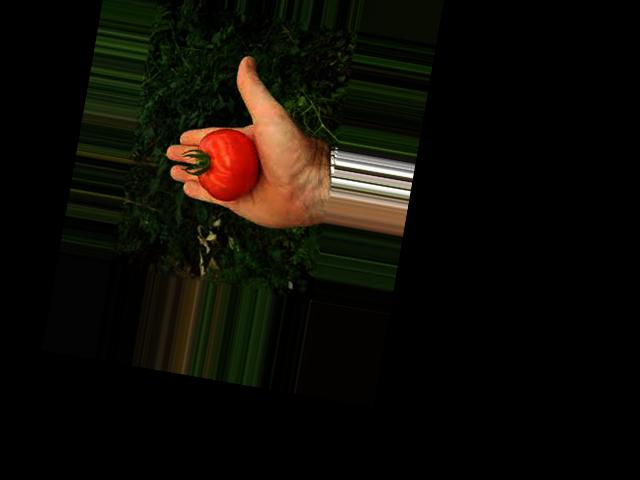tomato: (190, 123, 265, 207)
